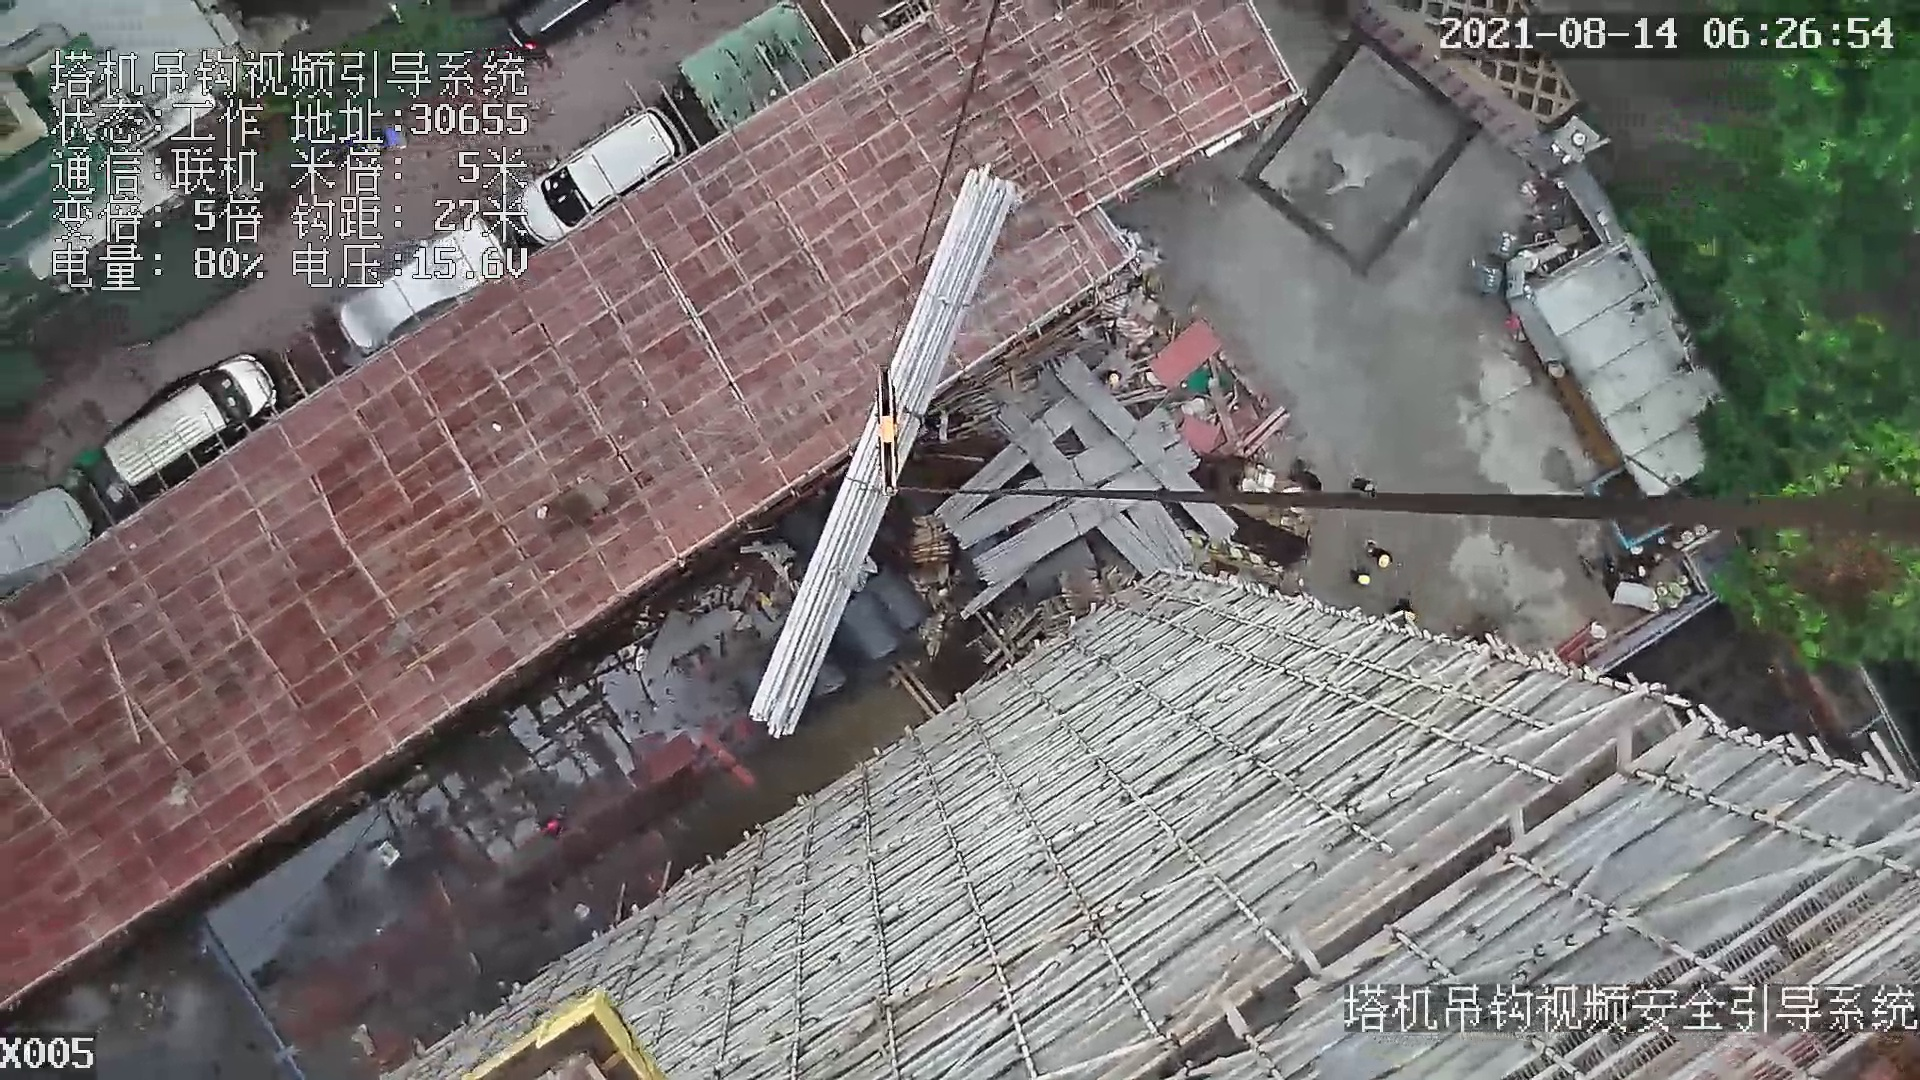helmet: (1355, 573, 1371, 587), (1378, 552, 1390, 568)
hook: (860, 363, 910, 506)
person: (1368, 544, 1395, 569), (1349, 569, 1376, 589)
